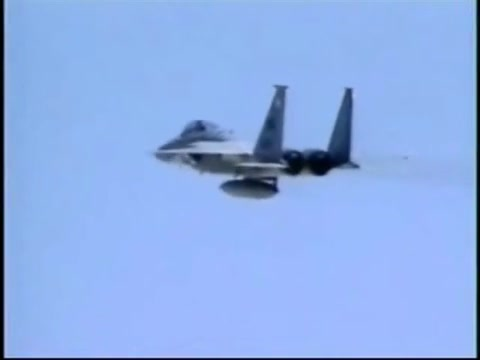aeroplane: (149, 84, 363, 203)
